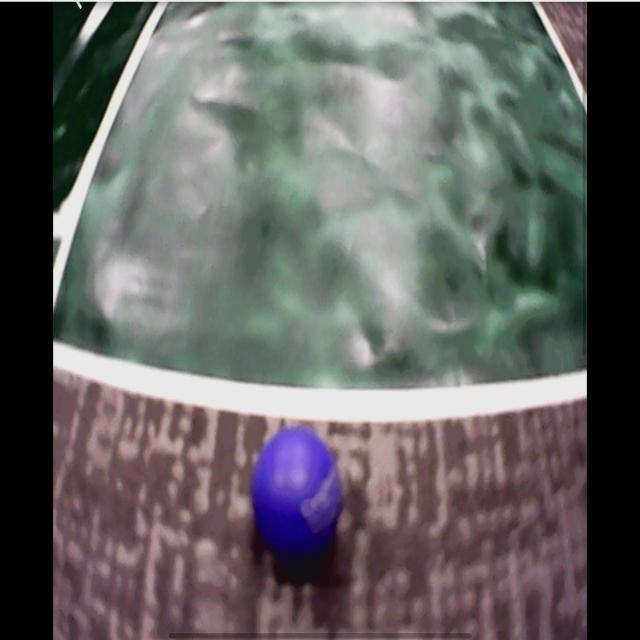ball: (255, 429, 343, 560)
